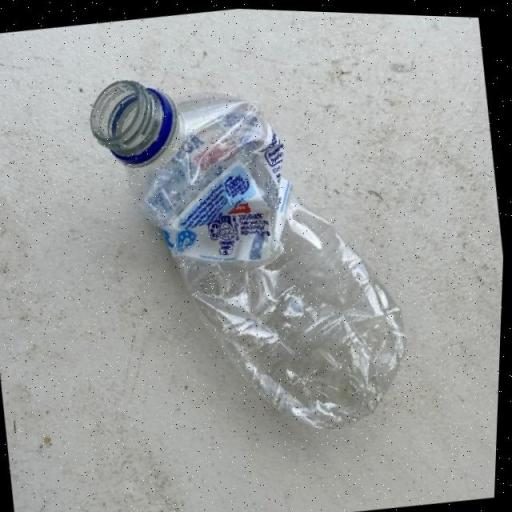plastic: (75, 41, 428, 459)
